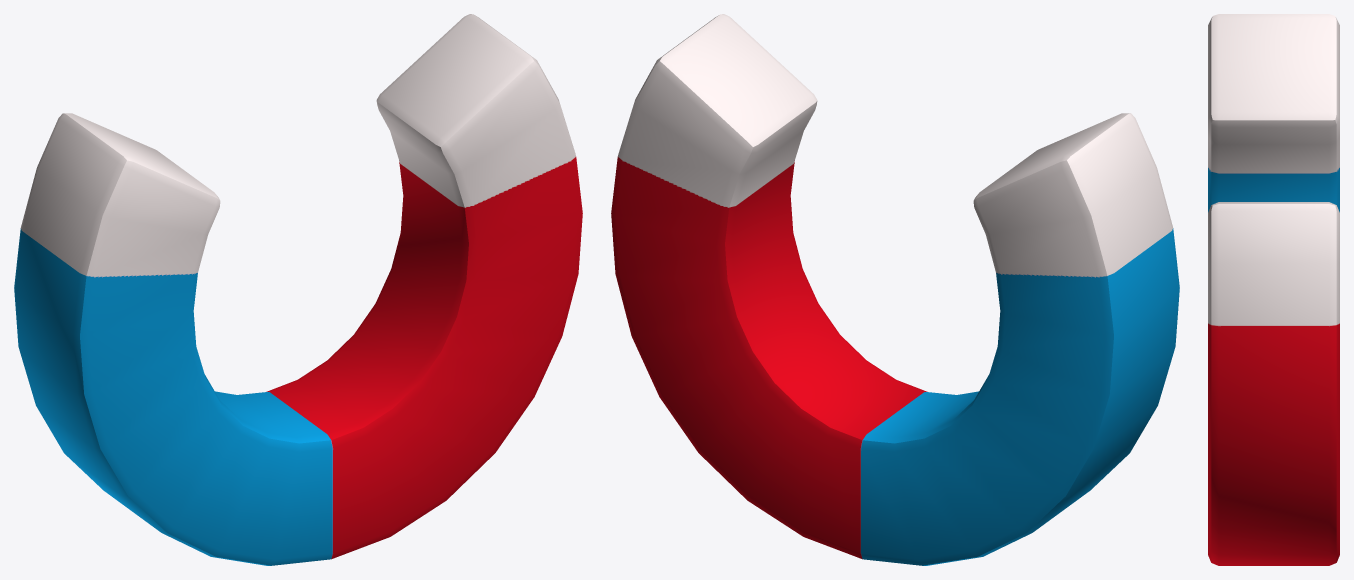
Rendered from Magnet.glb.
The picture shows the model from 3 angles, left to right: view 1: azimuth 30°, elevation 25°; view 2: azimuth 150°, elevation 25°; view 3: azimuth 270°, elevation 25°; orthographic projection. The views are drawn at different scales.
Visible parts, largest first — view 1: Object_2; view 2: Object_2; view 3: Object_2.
Boxes of the visible parts, box(x1,y1,x2,y2) form: Object_2: box(14, 14, 582, 565); Object_2: box(611, 14, 1179, 565); Object_2: box(1208, 14, 1339, 565).
Size of the model in its own units: 3.4 by 2.89 by 0.7977.
1 material, 1 textured.
